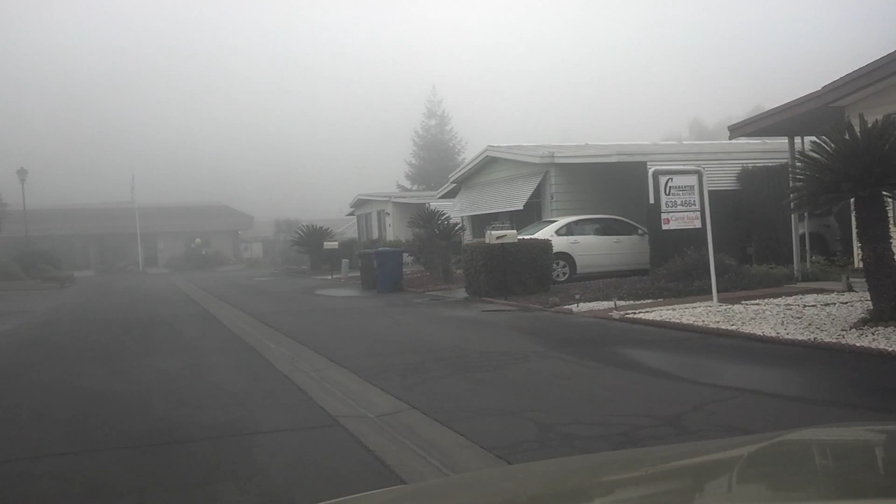car: (512, 214, 663, 283)
